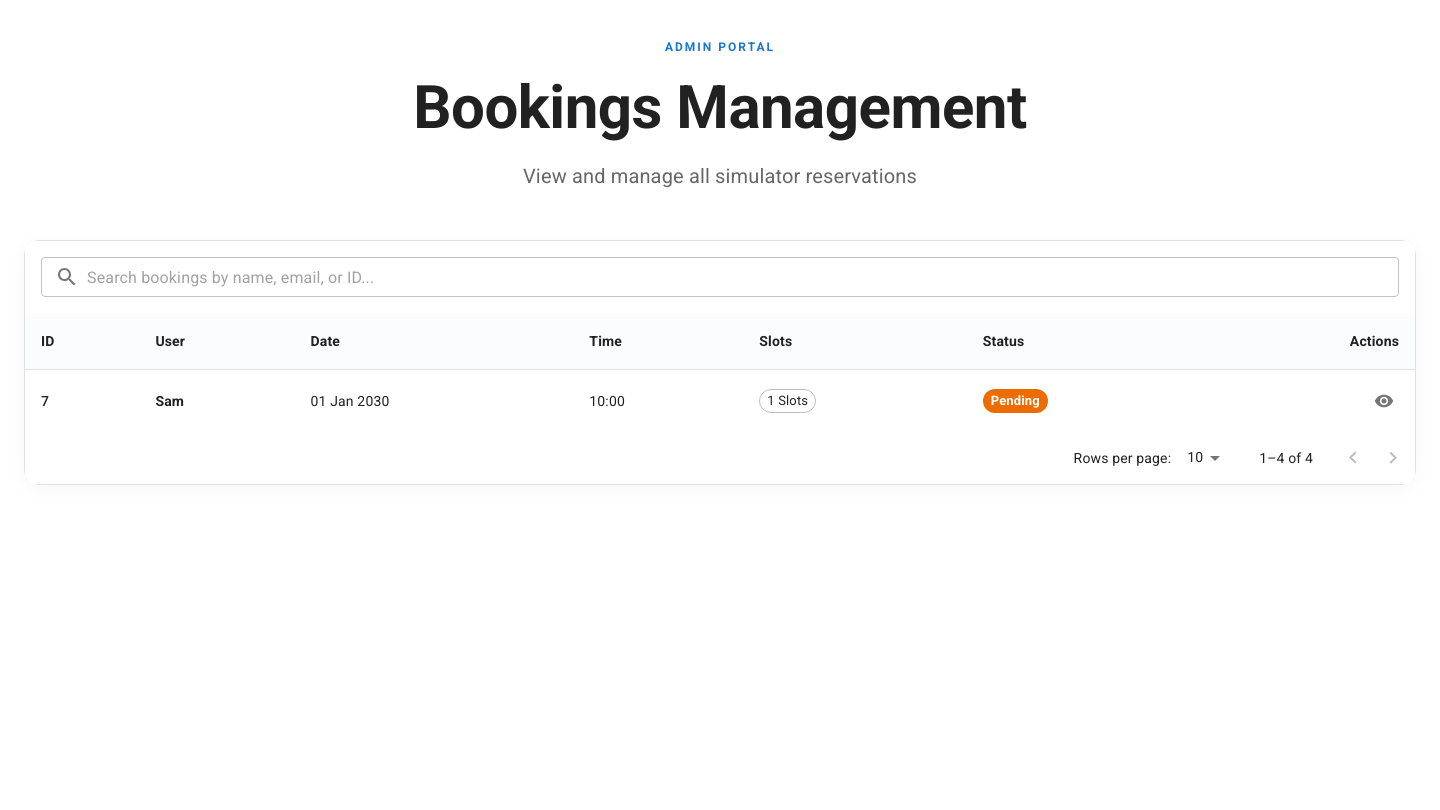
Test case: AdminBookings › opens confirm dialog and deletes booking when cancel is confirmed
Click the text "Sam" at (170, 401), box [155,393,184,409]
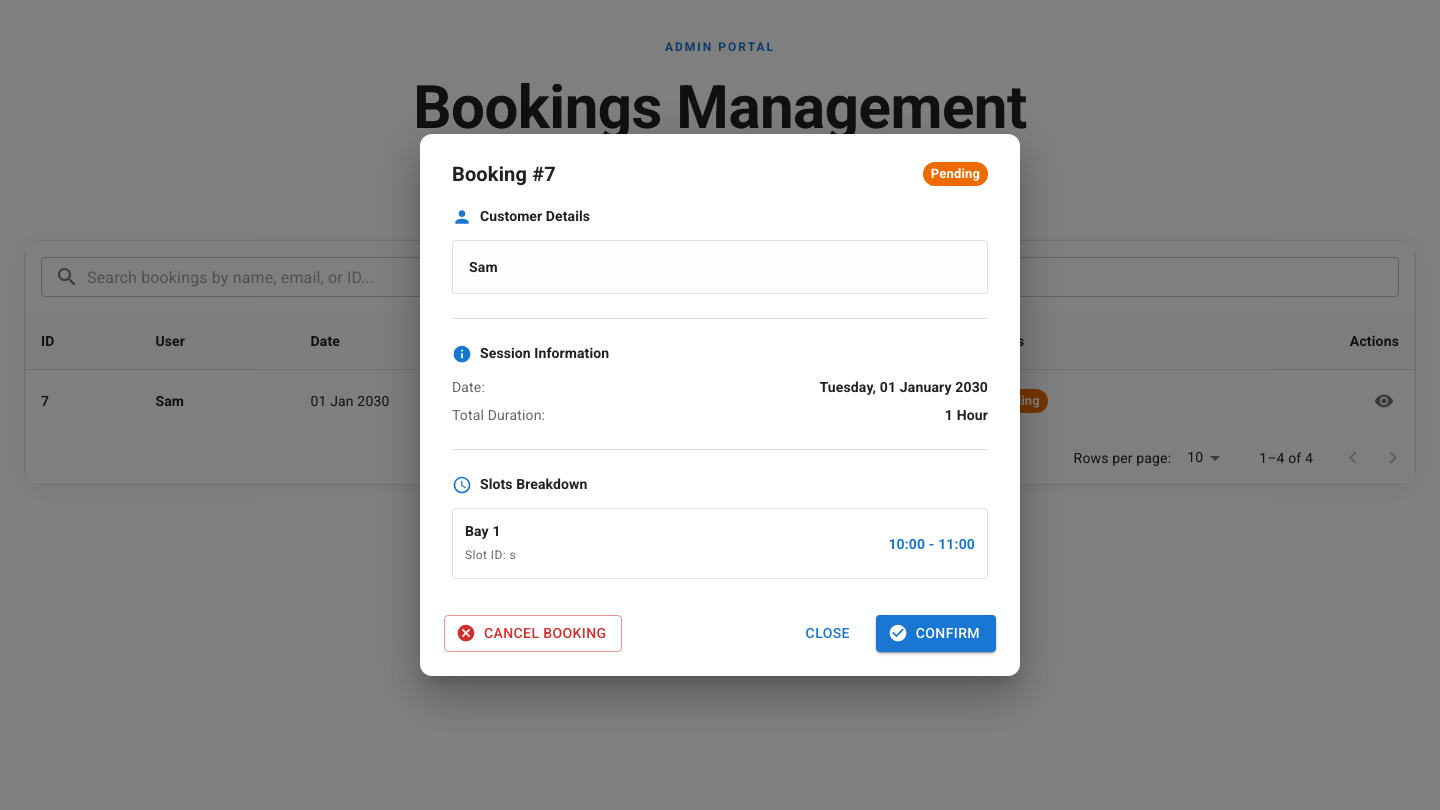
Click the button "Cancel Booking" at (533, 633), box [444,615,622,652]
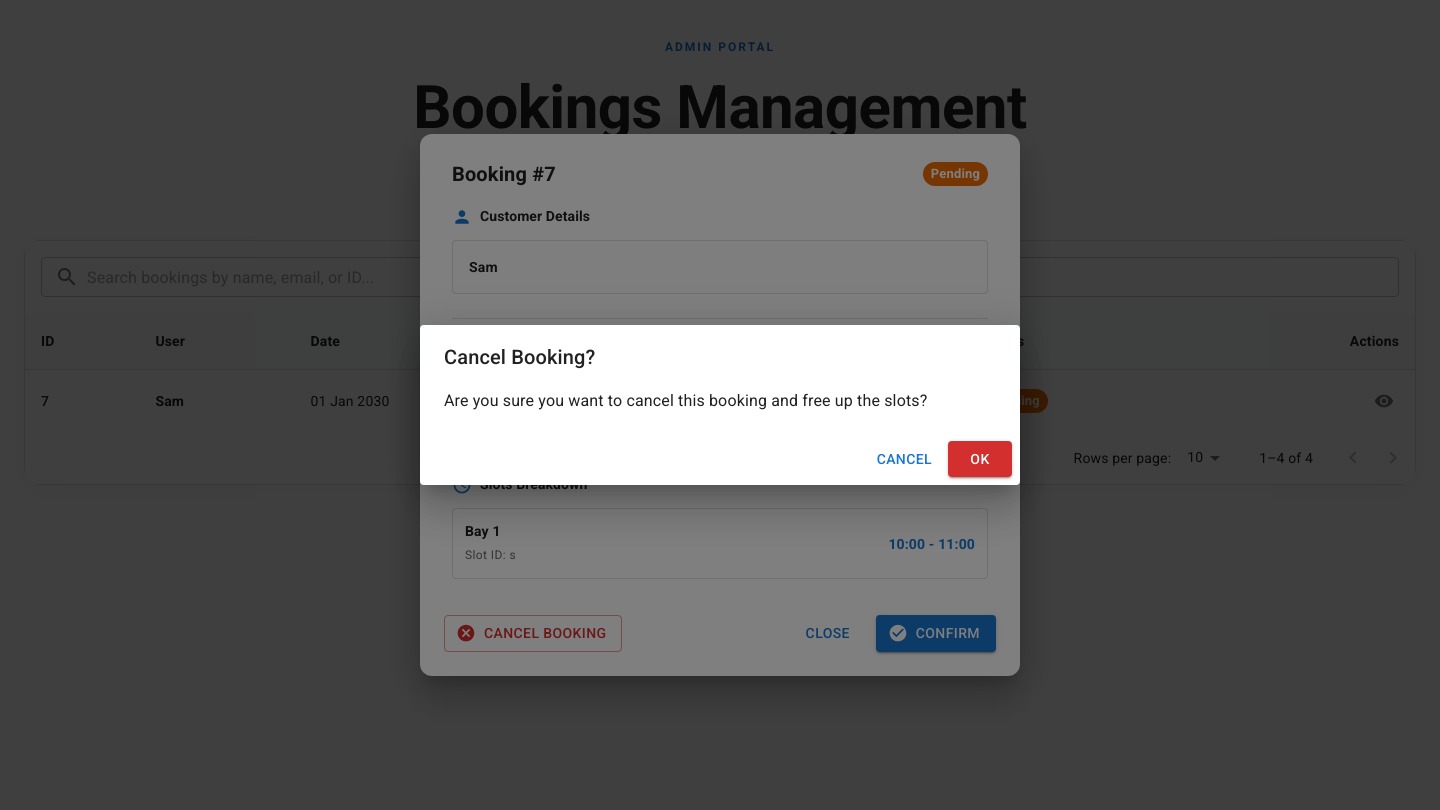
Click the button "OK" at (980, 459), box [948,441,1012,477]
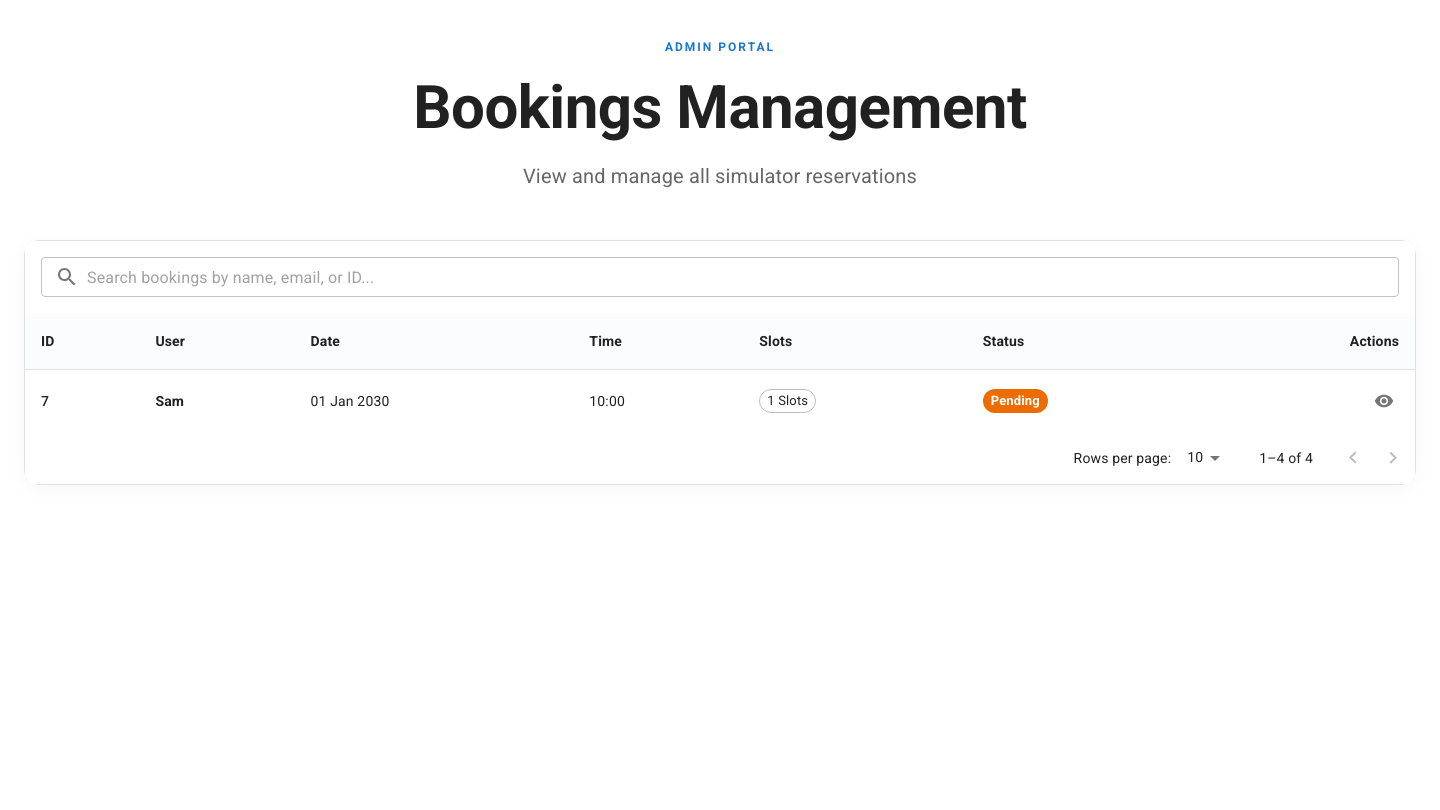
Expected: the text "Are you sure you want to cancel this booking and free up the slots" is gone
